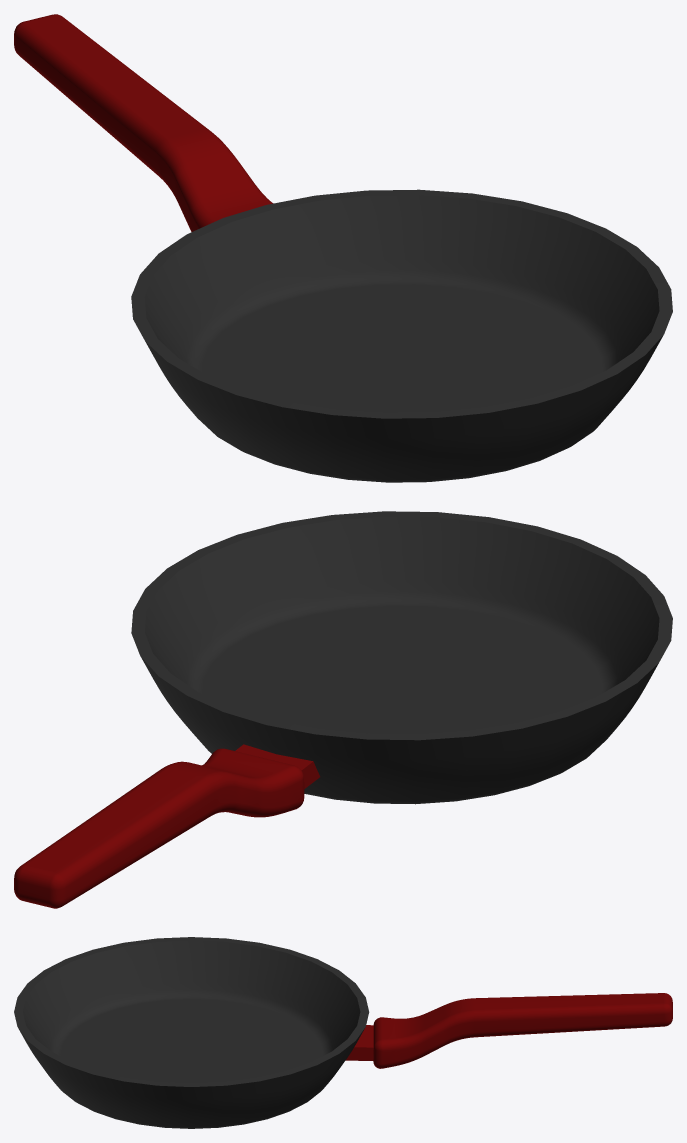
Rendered from Poele2_4.fbx.
3 views of the same model, one above another, from view 1: azimuth 30°, elevation 25°; view 2: azimuth 150°, elevation 25°; view 3: azimuth 270°, elevation 25° (orthographic). The views are drawn at different scales.
Parts seen in each view (by area): view 1: pCylinder703, pCube1904; view 2: pCylinder703, pCube1904; view 3: pCylinder703, pCube1904.
Part boxes in pixels (x1,y1,x2,y2): pCylinder703: [131, 189, 672, 482]; pCube1904: [14, 14, 273, 231]; pCylinder703: [131, 511, 672, 804]; pCube1904: [14, 744, 320, 908]; pCylinder703: [14, 937, 369, 1128]; pCube1904: [345, 993, 672, 1068].
Size of the model in its own units: 31.75 by 7.3 by 58.89.
